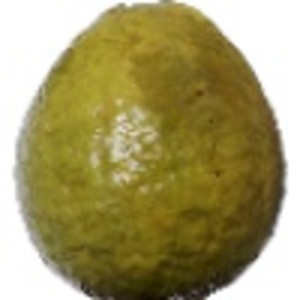goiaba: (13, 2, 286, 291)
